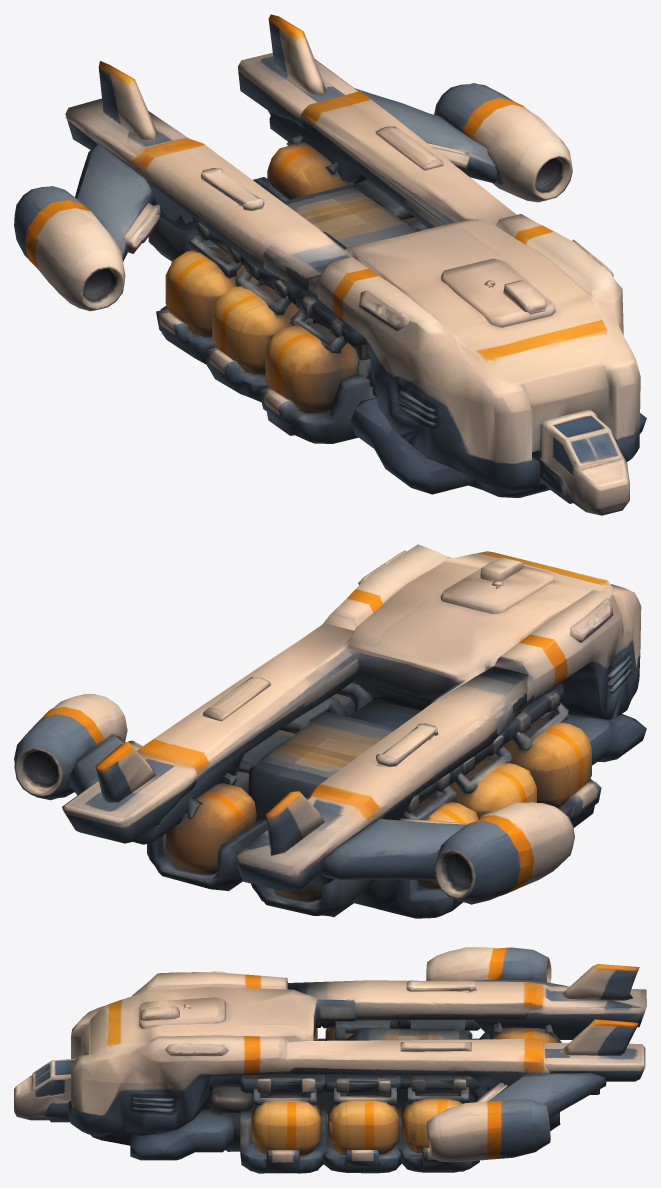
The model's file is tanker_102m_clean_segmented.glb.
3 views of the same model, one above another, from view 1: azimuth 30°, elevation 25°; view 2: azimuth 150°, elevation 25°; view 3: azimuth 270°, elevation 25° (orthographic). The views are drawn at different scales.
Visible parts, largest first — view 1: tripo_part_1, tripo_part_54, tripo_part_5, tripo_part_7, tripo_part_8, tripo_part_16, tripo_part_17, tripo_part_49, tripo_part_47, tripo_part_19, tripo_part_10, tripo_part_67 (+18 smaller); view 2: tripo_part_1, tripo_part_54, tripo_part_5, tripo_part_7, tripo_part_49, tripo_part_67, tripo_part_2, tripo_part_16, tripo_part_64, tripo_part_65, tripo_part_17, tripo_part_29 (+19 smaller); view 3: tripo_part_1, tripo_part_54, tripo_part_7, tripo_part_5, tripo_part_14, tripo_part_15, tripo_part_45, tripo_part_64, tripo_part_8, tripo_part_48, tripo_part_67, tripo_part_11 (+22 smaller).
Boxes of the visible parts, bbox=[...] form: tripo_part_1: bbox=[259, 91, 640, 497]; tripo_part_54: bbox=[65, 111, 349, 291]; tripo_part_5: bbox=[14, 186, 125, 311]; tripo_part_7: bbox=[434, 83, 572, 202]; tripo_part_8: bbox=[538, 409, 629, 515]; tripo_part_16: bbox=[265, 322, 358, 413]; tripo_part_17: bbox=[212, 284, 304, 374]; tripo_part_49: bbox=[75, 144, 154, 261]; tripo_part_47: bbox=[350, 397, 473, 494]; tripo_part_19: bbox=[165, 247, 259, 337]; tripo_part_10: bbox=[260, 373, 376, 443]; tripo_part_67: bbox=[238, 53, 357, 127]; tripo_part_1: bbox=[133, 544, 641, 917]; tripo_part_54: bbox=[238, 666, 527, 873]; tripo_part_5: bbox=[434, 802, 574, 904]; tripo_part_7: bbox=[14, 693, 127, 800]; tripo_part_49: bbox=[320, 818, 466, 880]; tripo_part_67: bbox=[62, 758, 196, 843]; tripo_part_2: bbox=[165, 782, 256, 874]; tripo_part_16: bbox=[503, 718, 591, 808]; tripo_part_64: bbox=[236, 816, 362, 892]; tripo_part_65: bbox=[440, 561, 554, 613]; tripo_part_17: bbox=[449, 759, 536, 818]; tripo_part_29: bbox=[147, 818, 267, 890]; tripo_part_1: bbox=[68, 972, 599, 1151]; tripo_part_54: bbox=[288, 980, 641, 1029]; tripo_part_7: bbox=[426, 1099, 550, 1162]; tripo_part_5: bbox=[426, 947, 551, 982]; tripo_part_14: bbox=[251, 1094, 321, 1155]; tripo_part_15: bbox=[328, 1095, 399, 1154]; tripo_part_45: bbox=[130, 1109, 233, 1160]; tripo_part_64: bbox=[474, 986, 646, 1039]; tripo_part_8: bbox=[14, 1057, 76, 1122]; tripo_part_48: bbox=[488, 1073, 606, 1117]; tripo_part_67: bbox=[544, 1043, 645, 1081]; tripo_part_11: bbox=[240, 1109, 326, 1173].
Bounding box in the file's own units: 68.66 × 28.88 × 102.
Materials: 82 (82 with a texture image).
